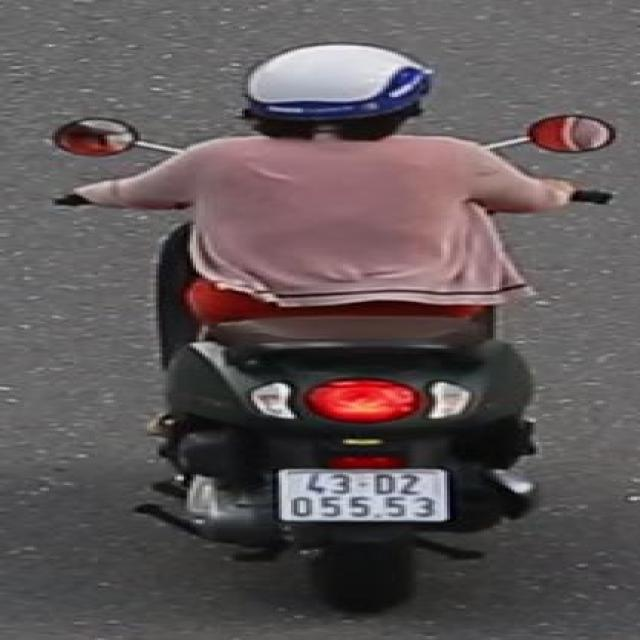LP: (269, 463, 456, 527)
helmet: (242, 36, 438, 146)
